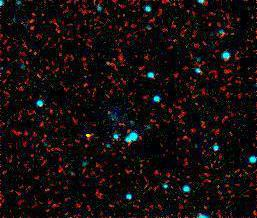star: (72, 123, 102, 153)
